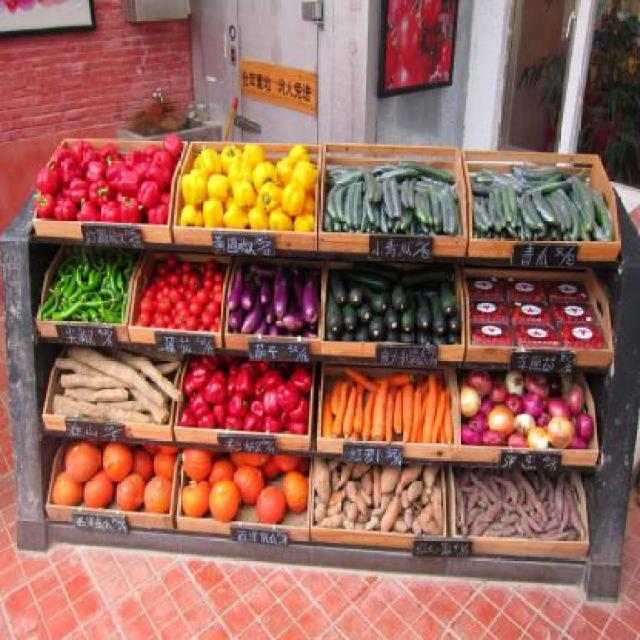Tomato: (135, 253, 223, 330), (153, 299, 173, 319)
